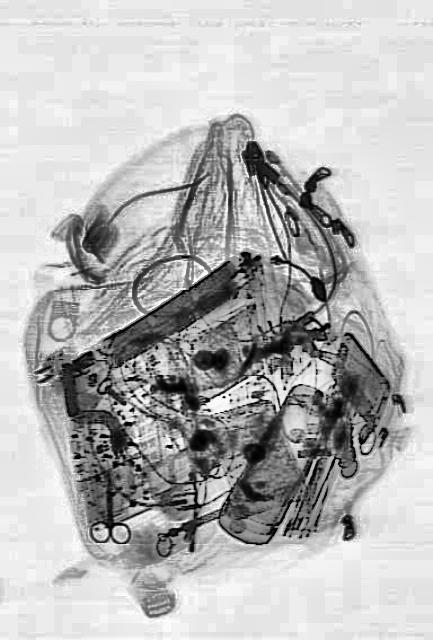Scissors: (88, 470, 128, 544)
